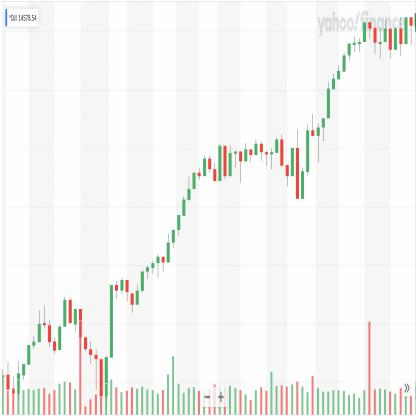Bearish Evening Star Doji: (36, 301, 52, 353)
Bearish Tweezer Top: (62, 292, 73, 330)
Bullish 3 White Soldiers: (176, 174, 192, 237), (170, 193, 186, 250), (166, 212, 181, 266), (182, 169, 196, 217)
